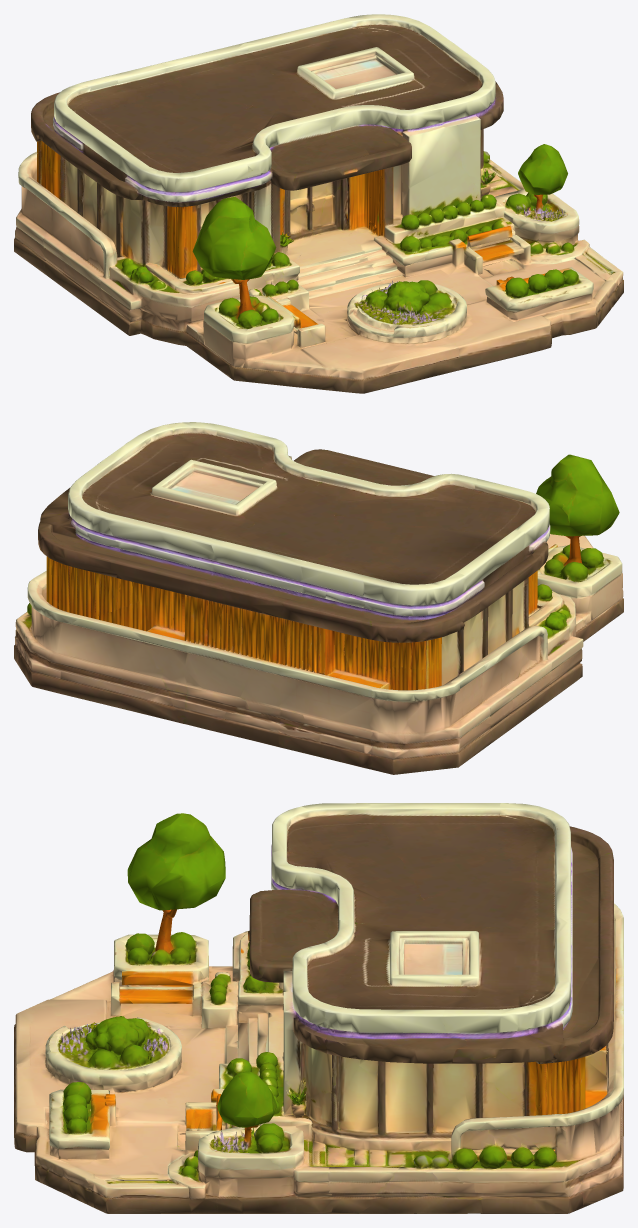
File: lumen-pavilion.glb
The picture shows the model from 3 angles, top to bottom: view 1: azimuth 30°, elevation 25°; view 2: azimuth 150°, elevation 25°; view 3: azimuth 270°, elevation 25°; orthographic projection. The views are drawn at different scales.
Size of the model in its own units: 1.79 by 0.6522 by 1.9.
Materials: 1 (1 with a texture image).
